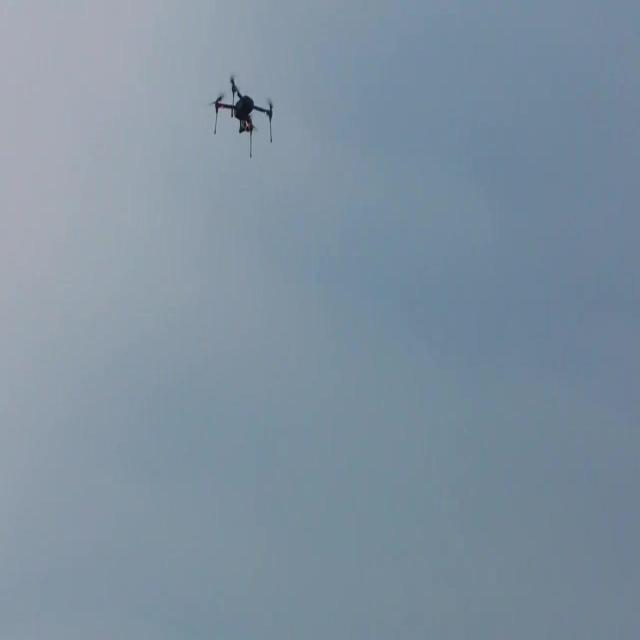drone: (210, 72, 277, 160)
